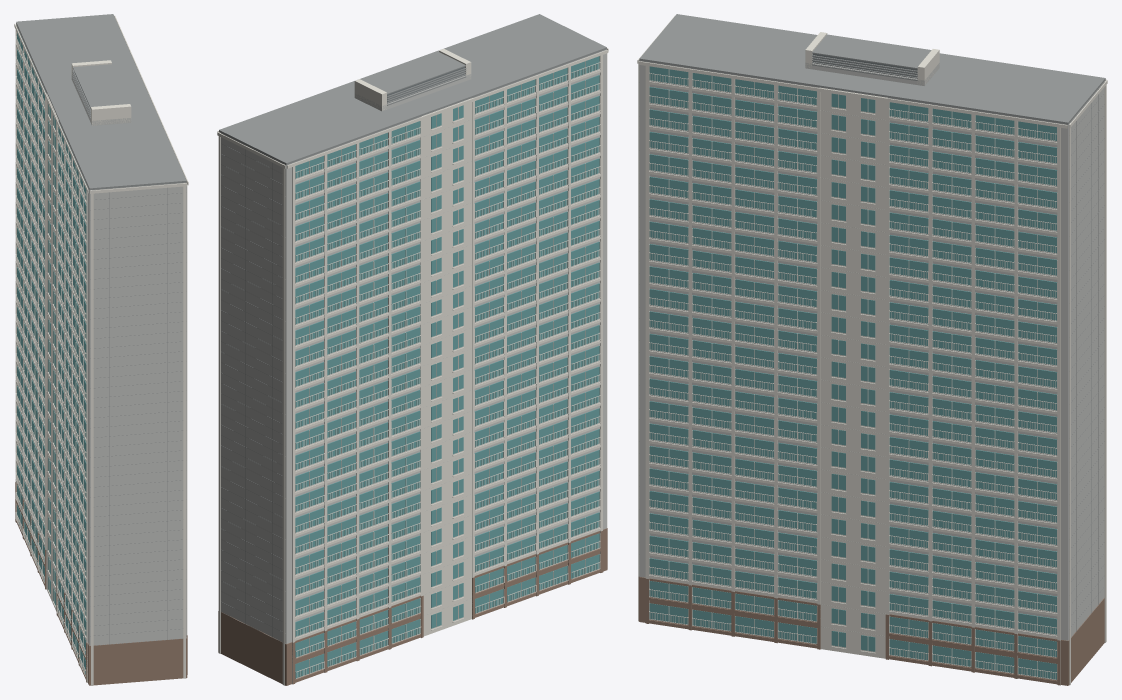
File: bespoke-jamsil-els-140.glb
3 renders of one model, left to right at view 1: azimuth 30°, elevation 25°; view 2: azimuth 150°, elevation 25°; view 3: azimuth 270°, elevation 25°, orthographic. The views are drawn at different scales.
Visible parts, largest first — view 1: Els140_editable_Els140_light_grey_solid_wall, Els140_editable_Els140_modest_grey_flat_roof_caps, Els140_editable_Els140_turquoise_balcony_glazing, Els140_white_exact_chunk_0, Els140_white_exact_chunk_3, Els140_white_exact_chunk_1, Els140_white_exact_chunk_2, Els140_editable_Els140_muted_ground_wall, Els140_white_exact_chunk_6, Els140_white_exact_chunk_4; view 2: Els140_editable_Els140_turquoise_balcony_glazing, Els140_editable_Els140_light_grey_solid_wall, Els140_white_exact_chunk_0, Els140_white_exact_chunk_1, Els140_editable_Els140_modest_grey_flat_roof_caps, Els140_white_exact_chunk_2, Els140_white_exact_chunk_3, Els140_editable_Els140_muted_ground_wall, Els140_white_exact_chunk_6; view 3: Els140_editable_Els140_turquoise_balcony_glazing, Els140_editable_Els140_light_grey_solid_wall, Els140_white_exact_chunk_3, Els140_white_exact_chunk_4, Els140_white_exact_chunk_6, Els140_editable_Els140_modest_grey_flat_roof_caps, Els140_white_exact_chunk_5, Els140_editable_Els140_muted_ground_wall, Els140_white_exact_chunk_0.
Part boxes in pixels (left/top/right/bottom): Els140_editable_Els140_light_grey_solid_wall: left=16, top=24, right=186, bottom=645; Els140_editable_Els140_modest_grey_flat_roof_caps: left=16, top=14, right=186, bottom=645; Els140_editable_Els140_turquoise_balcony_glazing: left=17, top=30, right=86, bottom=674; Els140_white_exact_chunk_0: left=15, top=23, right=58, bottom=611; Els140_white_exact_chunk_3: left=14, top=23, right=186, bottom=685; Els140_white_exact_chunk_1: left=15, top=26, right=63, bottom=626; Els140_white_exact_chunk_2: left=57, top=125, right=86, bottom=676; Els140_editable_Els140_muted_ground_wall: left=15, top=482, right=187, bottom=685; Els140_white_exact_chunk_6: left=71, top=15, right=188, bottom=185; Els140_white_exact_chunk_4: left=156, top=112, right=187, bottom=634; Els140_editable_Els140_turquoise_balcony_glazing: left=295, top=56, right=599, bottom=678; Els140_editable_Els140_light_grey_solid_wall: left=219, top=49, right=606, bottom=643; Els140_white_exact_chunk_0: left=217, top=98, right=472, bottom=685; Els140_white_exact_chunk_1: left=292, top=116, right=504, bottom=684; Els140_editable_Els140_modest_grey_flat_roof_caps: left=219, top=14, right=606, bottom=637; Els140_white_exact_chunk_2: left=474, top=67, right=600, bottom=602; Els140_white_exact_chunk_3: left=287, top=48, right=608, bottom=615; Els140_editable_Els140_muted_ground_wall: left=218, top=528, right=607, bottom=685; Els140_white_exact_chunk_6: left=217, top=49, right=471, bottom=132; Els140_editable_Els140_turquoise_balcony_glazing: left=649, top=66, right=1057, bottom=679; Els140_editable_Els140_light_grey_solid_wall: left=639, top=60, right=1105, bottom=640; Els140_white_exact_chunk_3: left=637, top=16, right=1106, bottom=658; Els140_white_exact_chunk_4: left=645, top=62, right=928, bottom=660; Els140_white_exact_chunk_6: left=638, top=32, right=1067, bottom=684; Els140_editable_Els140_modest_grey_flat_roof_caps: left=639, top=14, right=1105, bottom=637; Els140_white_exact_chunk_5: left=889, top=102, right=1014, bottom=673; Els140_editable_Els140_muted_ground_wall: left=638, top=577, right=1104, bottom=685; Els140_white_exact_chunk_0: left=1069, top=80, right=1107, bottom=685.
Size of the model in its own units: 28.87 by 71 by 52.01.
